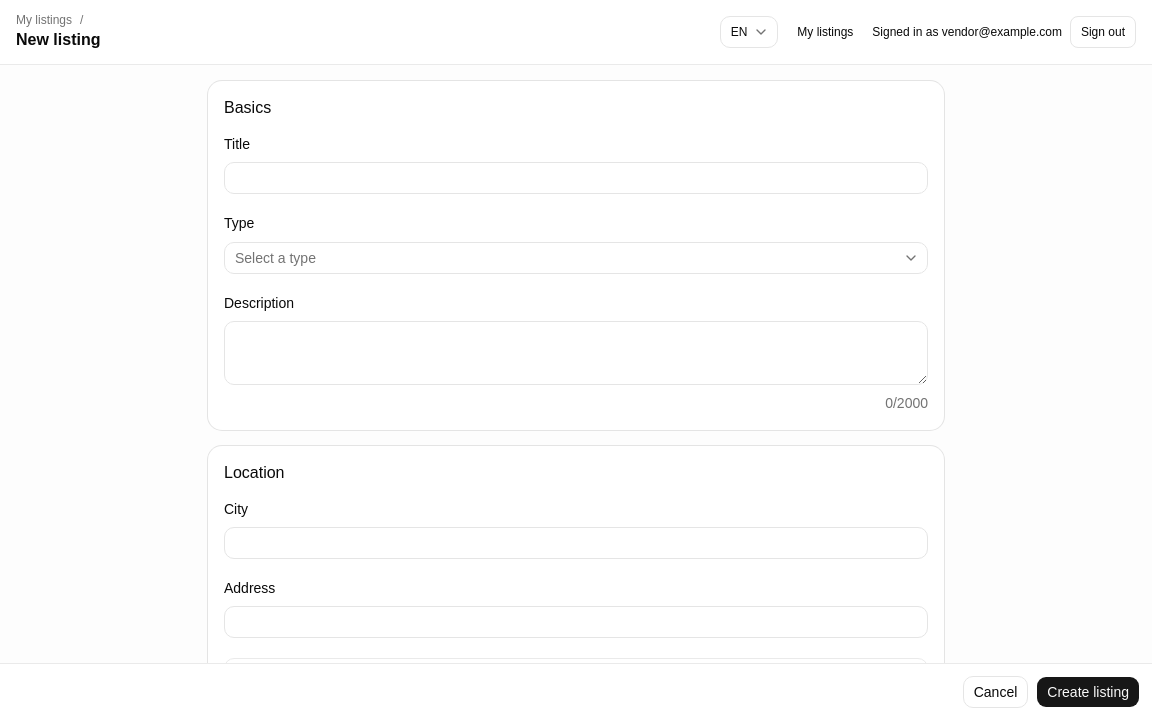
Test: ListingEditorPage: LED fields › offers only Billboard and LED screen as types
What coordinates should you click on to do the following:
click the dropdown labelled "type"
I would click on:
 (275, 258)
Its box is [224,242,928,274].
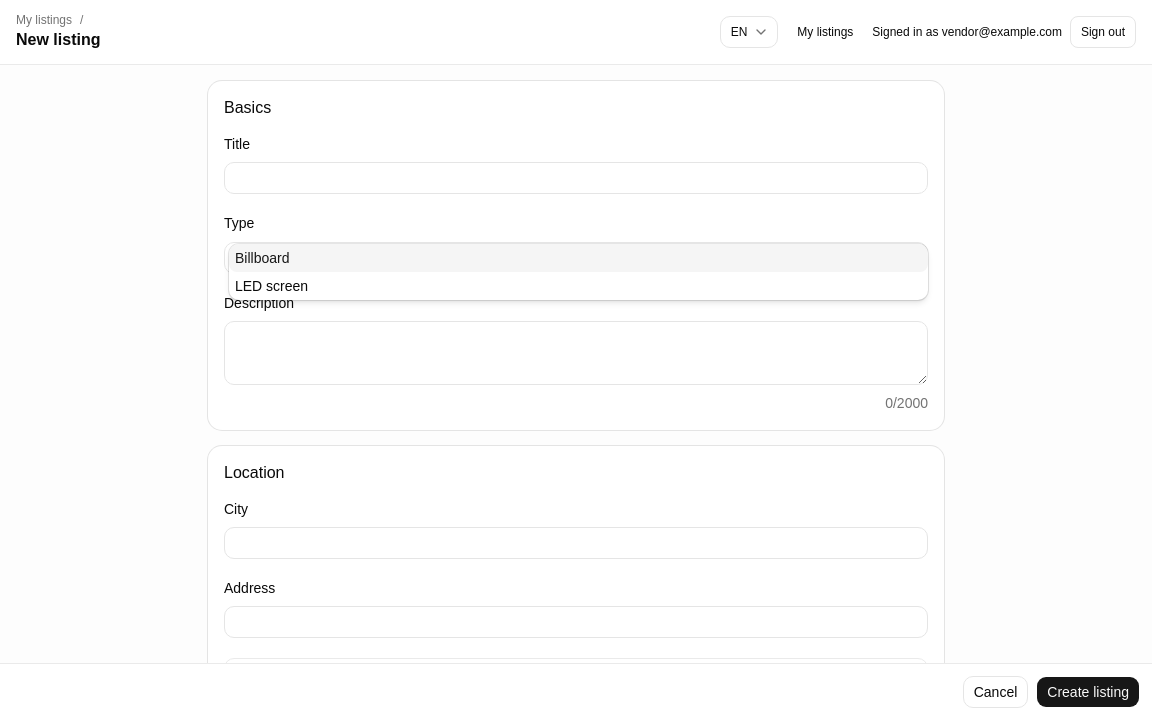
Check: the options read "Billboard", "LED screen", in this order, box [229,244,928,272]; [235,278,308,294]
